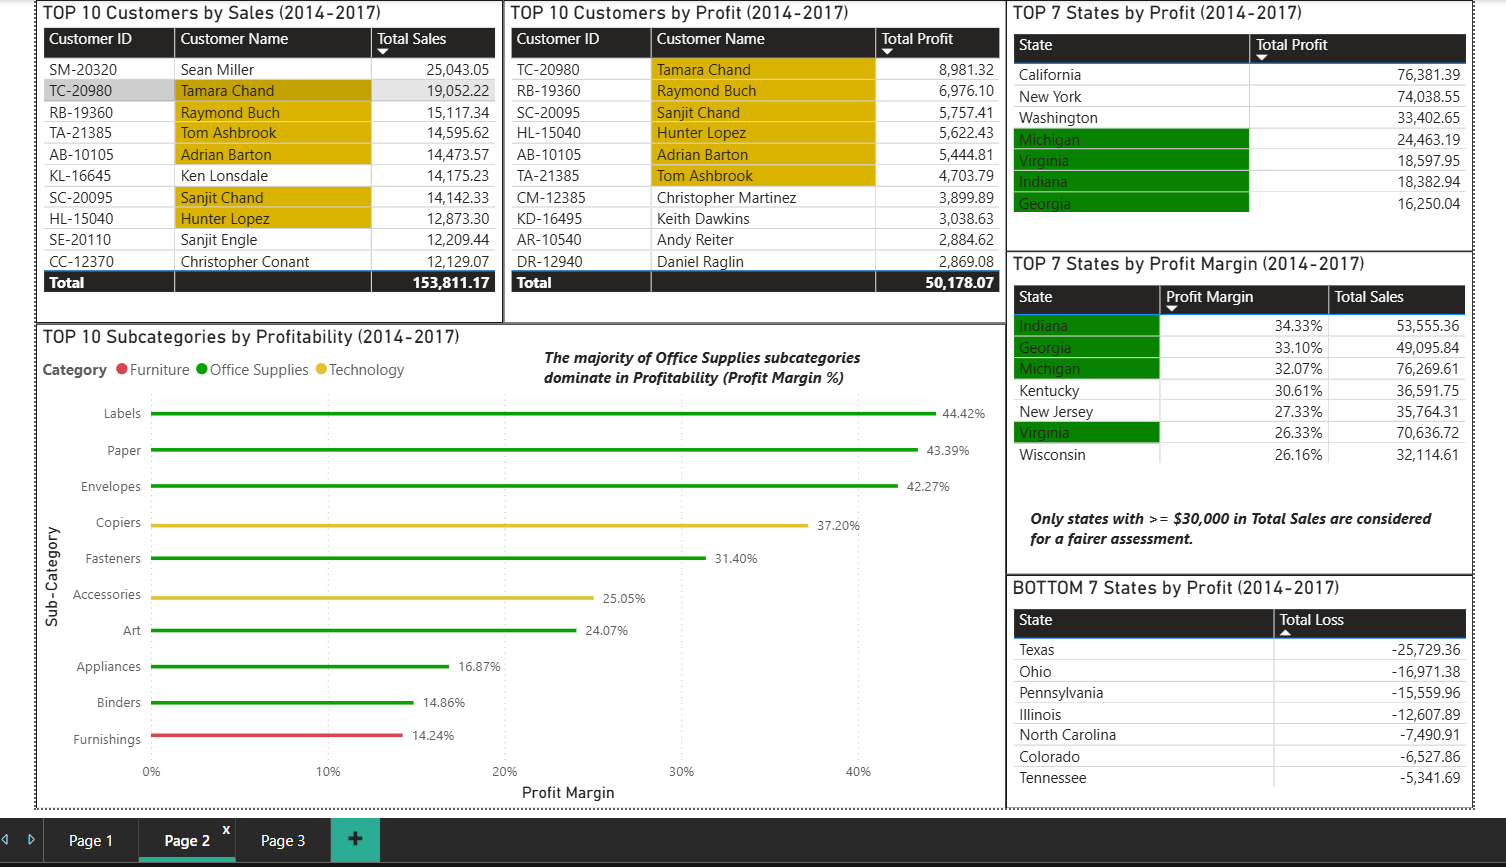

The dashboard page shown, as its layout file describes it:
{"tool":"powerbi","page":{"name":"Page 2","canvas":[1280,720],"ordinal":1},"visuals":[{"type":"tableEx","title":"TOP 10 Customers by Profit (2014-2017)","fields":{"Values":["Superstore.Customer ID","Superstore.Customer Name","Sum(Superstore.Profit)"]},"box":[416,0,448,288],"z":0},{"type":"tableEx","title":"TOP 10 Customers by Sales (2014-2017)","fields":{"Values":["Superstore.Customer ID","Superstore.Customer Name","Sum(Superstore.Sales)"]},"box":[0,0,416,288],"z":1000},{"type":"clusteredBarChart","title":"TOP 10 Subcategories by Profitability (2014-2017)","fields":{"Category":["Superstore.Sub-Category"],"Y":["Superstore.Profit Margin"],"Series":["Superstore.Category"]},"box":[0,288,864,432],"z":2000},{"type":"tableEx","title":"TOP 7 States by Profit (2014-2017)","fields":{"Values":["Superstore.State","Sum(Superstore.Profit)"]},"box":[864,0,416,224],"z":3000},{"type":"tableEx","title":"TOP 7 States by Profit Margin (2014-2017)","fields":{"Values":["Superstore.State","Superstore.Profit Margin","Sum(Superstore.Sales)"]},"box":[864,224,416,288],"z":4000},{"type":"textbox","box":[880,448,384,48],"z":5000},{"type":"tableEx","title":"BOTTOM 7 States by Profit (2014-2017)","fields":{"Values":["Superstore.State","Sum(Superstore.Profit)"]},"box":[864,512,416,208],"z":6000},{"type":"textbox","box":[448,304,304,48],"z":7000}]}

Visuals, with their boxes on the page's 1280x720 design canvas (x1, y1, x2, y2). These are canvas units, not pixel positions in the 1506x867 screenshot, which may show the page scaled, cropped or inside an application window:
"TOP 10 Customers by Profit (2014-2017)" tableEx: rect(416, 0, 864, 288)
"TOP 10 Customers by Sales (2014-2017)" tableEx: rect(0, 0, 416, 288)
"TOP 10 Subcategories by Profitability (2014-2017)" clusteredBarChart: rect(0, 288, 864, 720)
"TOP 7 States by Profit (2014-2017)" tableEx: rect(864, 0, 1280, 224)
"TOP 7 States by Profit Margin (2014-2017)" tableEx: rect(864, 224, 1280, 512)
textbox: rect(880, 448, 1264, 496)
"BOTTOM 7 States by Profit (2014-2017)" tableEx: rect(864, 512, 1280, 720)
textbox: rect(448, 304, 752, 352)
